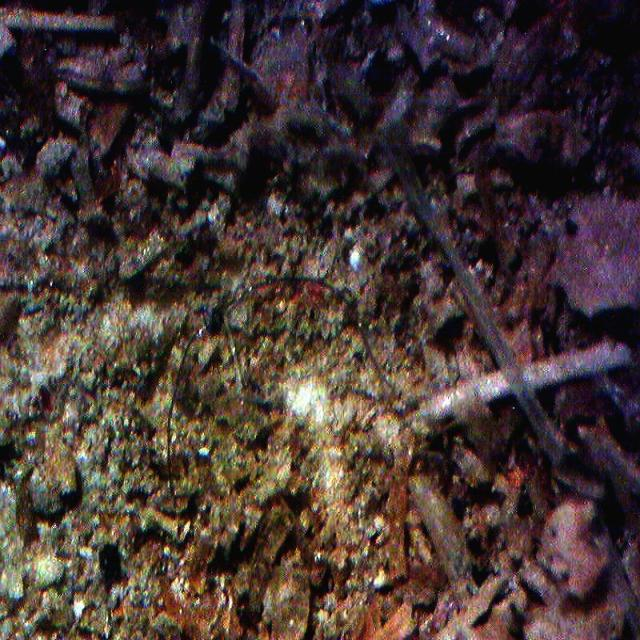microplastic: (231, 244, 420, 399), (154, 319, 206, 493)
